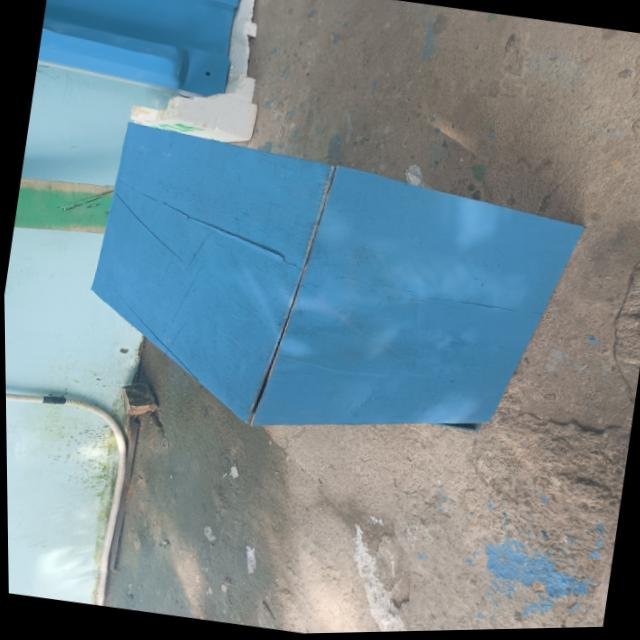blue_box: (80, 110, 593, 461)
